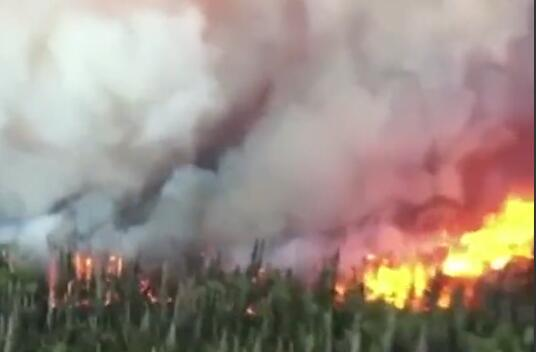fire: (338, 189, 535, 303)
yanwu: (0, 0, 533, 265)
